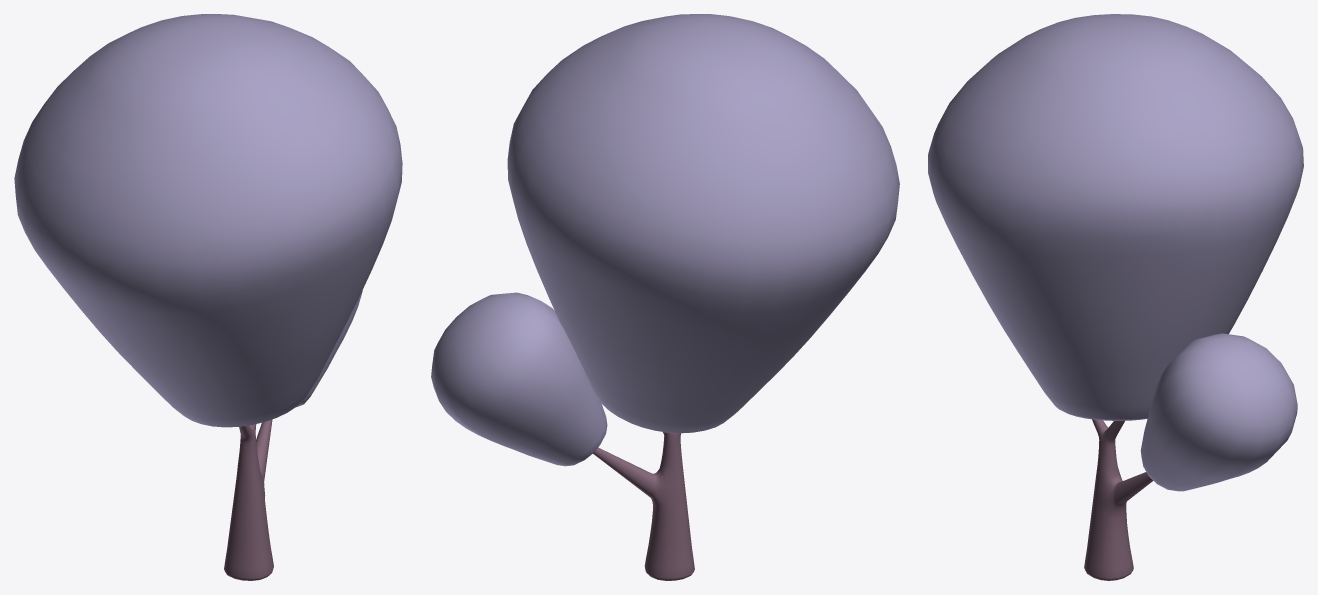
The model's file is SM_20004Arvore1.fbx.
3 views of the same model, side by side, from view 1: azimuth 30°, elevation 25°; view 2: azimuth 150°, elevation 25°; view 3: azimuth 270°, elevation 25° (orthographic). The views are drawn at different scales.
Visible parts, largest first — view 1: SM_20004Arvore1_geo_2, SM_20004Arvore1_geo_1, SM_20004Arvore1_geo_3; view 2: SM_20004Arvore1_geo_2, SM_20004Arvore1_geo_3, SM_20004Arvore1_geo_1; view 3: SM_20004Arvore1_geo_2, SM_20004Arvore1_geo_3, SM_20004Arvore1_geo_1.
Part boxes in pixels (bbox=[...]): SM_20004Arvore1_geo_2: bbox=[14, 14, 402, 427]; SM_20004Arvore1_geo_1: bbox=[224, 419, 273, 580]; SM_20004Arvore1_geo_3: bbox=[296, 290, 362, 407]; SM_20004Arvore1_geo_2: bbox=[507, 14, 899, 433]; SM_20004Arvore1_geo_3: bbox=[431, 292, 607, 466]; SM_20004Arvore1_geo_1: bbox=[593, 432, 694, 580]; SM_20004Arvore1_geo_2: bbox=[928, 14, 1303, 420]; SM_20004Arvore1_geo_3: bbox=[1140, 333, 1297, 491]; SM_20004Arvore1_geo_1: bbox=[1084, 419, 1153, 580].
Bounding box in the file's own units: 308 × 433 × 280.
